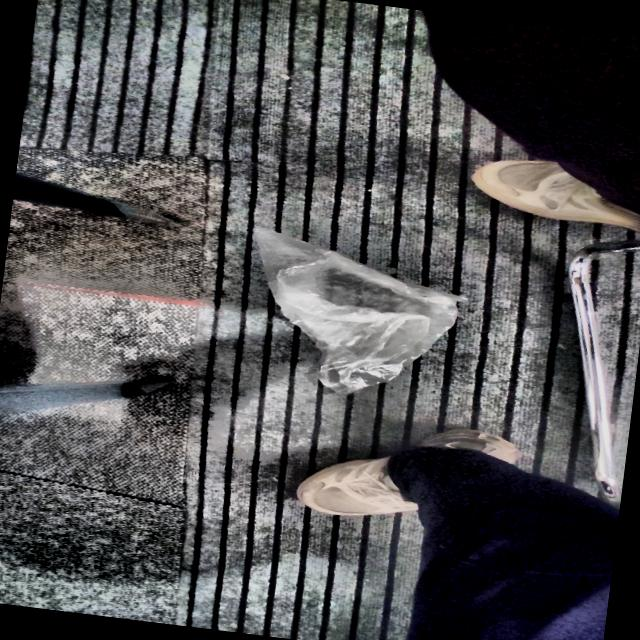plastic bag: (254, 228, 464, 394)
